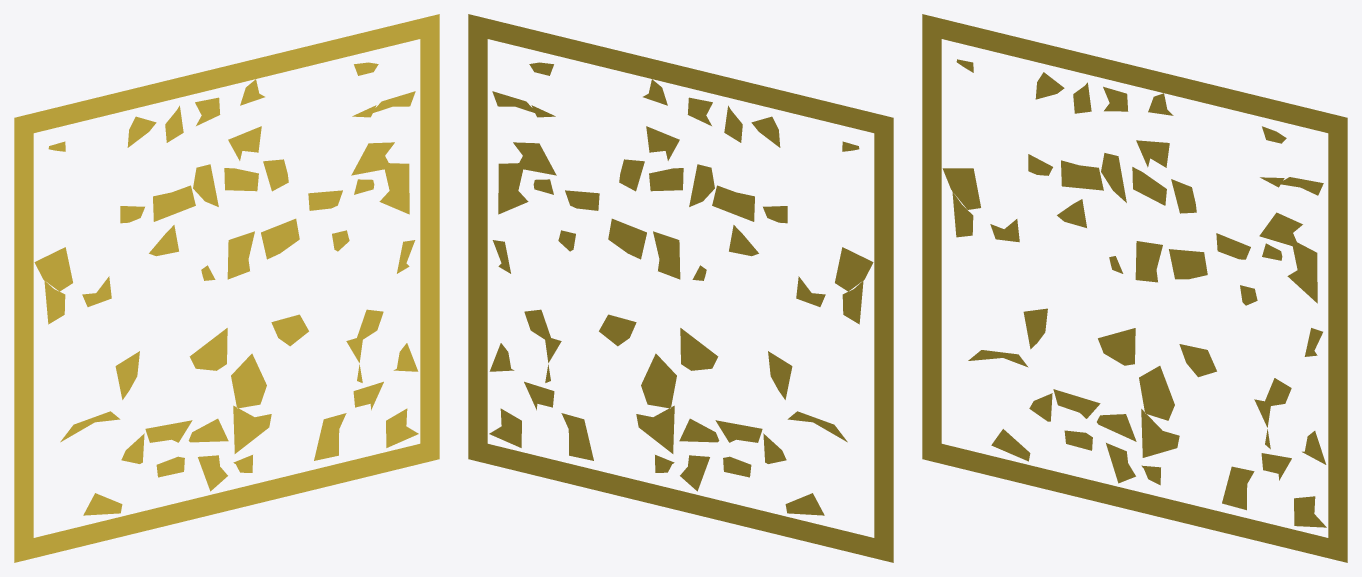
The model's file is RandomPolygons_really_planar_env.dae.
3 renders of one model, left to right at view 1: azimuth 30°, elevation 25°; view 2: azimuth 150°, elevation 25°; view 3: azimuth 330°, elevation 25°, orthographic.
Parts seen in each view (by area): view 1: instance_0 (×23); view 2: instance_0 (×23); view 3: instance_0 (×23).
Part boxes in pixels (x1,y1,x2,y2): instance_0 (×23): (14, 14, 439, 562); instance_0 (×23): (468, 14, 893, 562); instance_0 (×23): (922, 14, 1347, 562).
Bounding box in the file's own units: 110 × 0 × 110.
